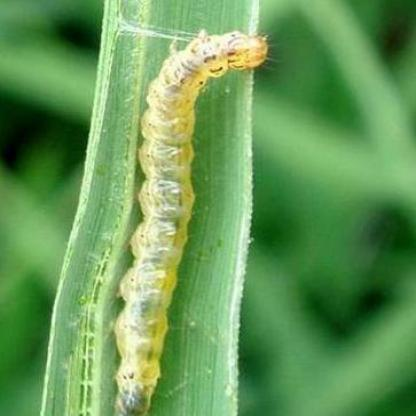leaf-folder: (98, 28, 288, 416)
